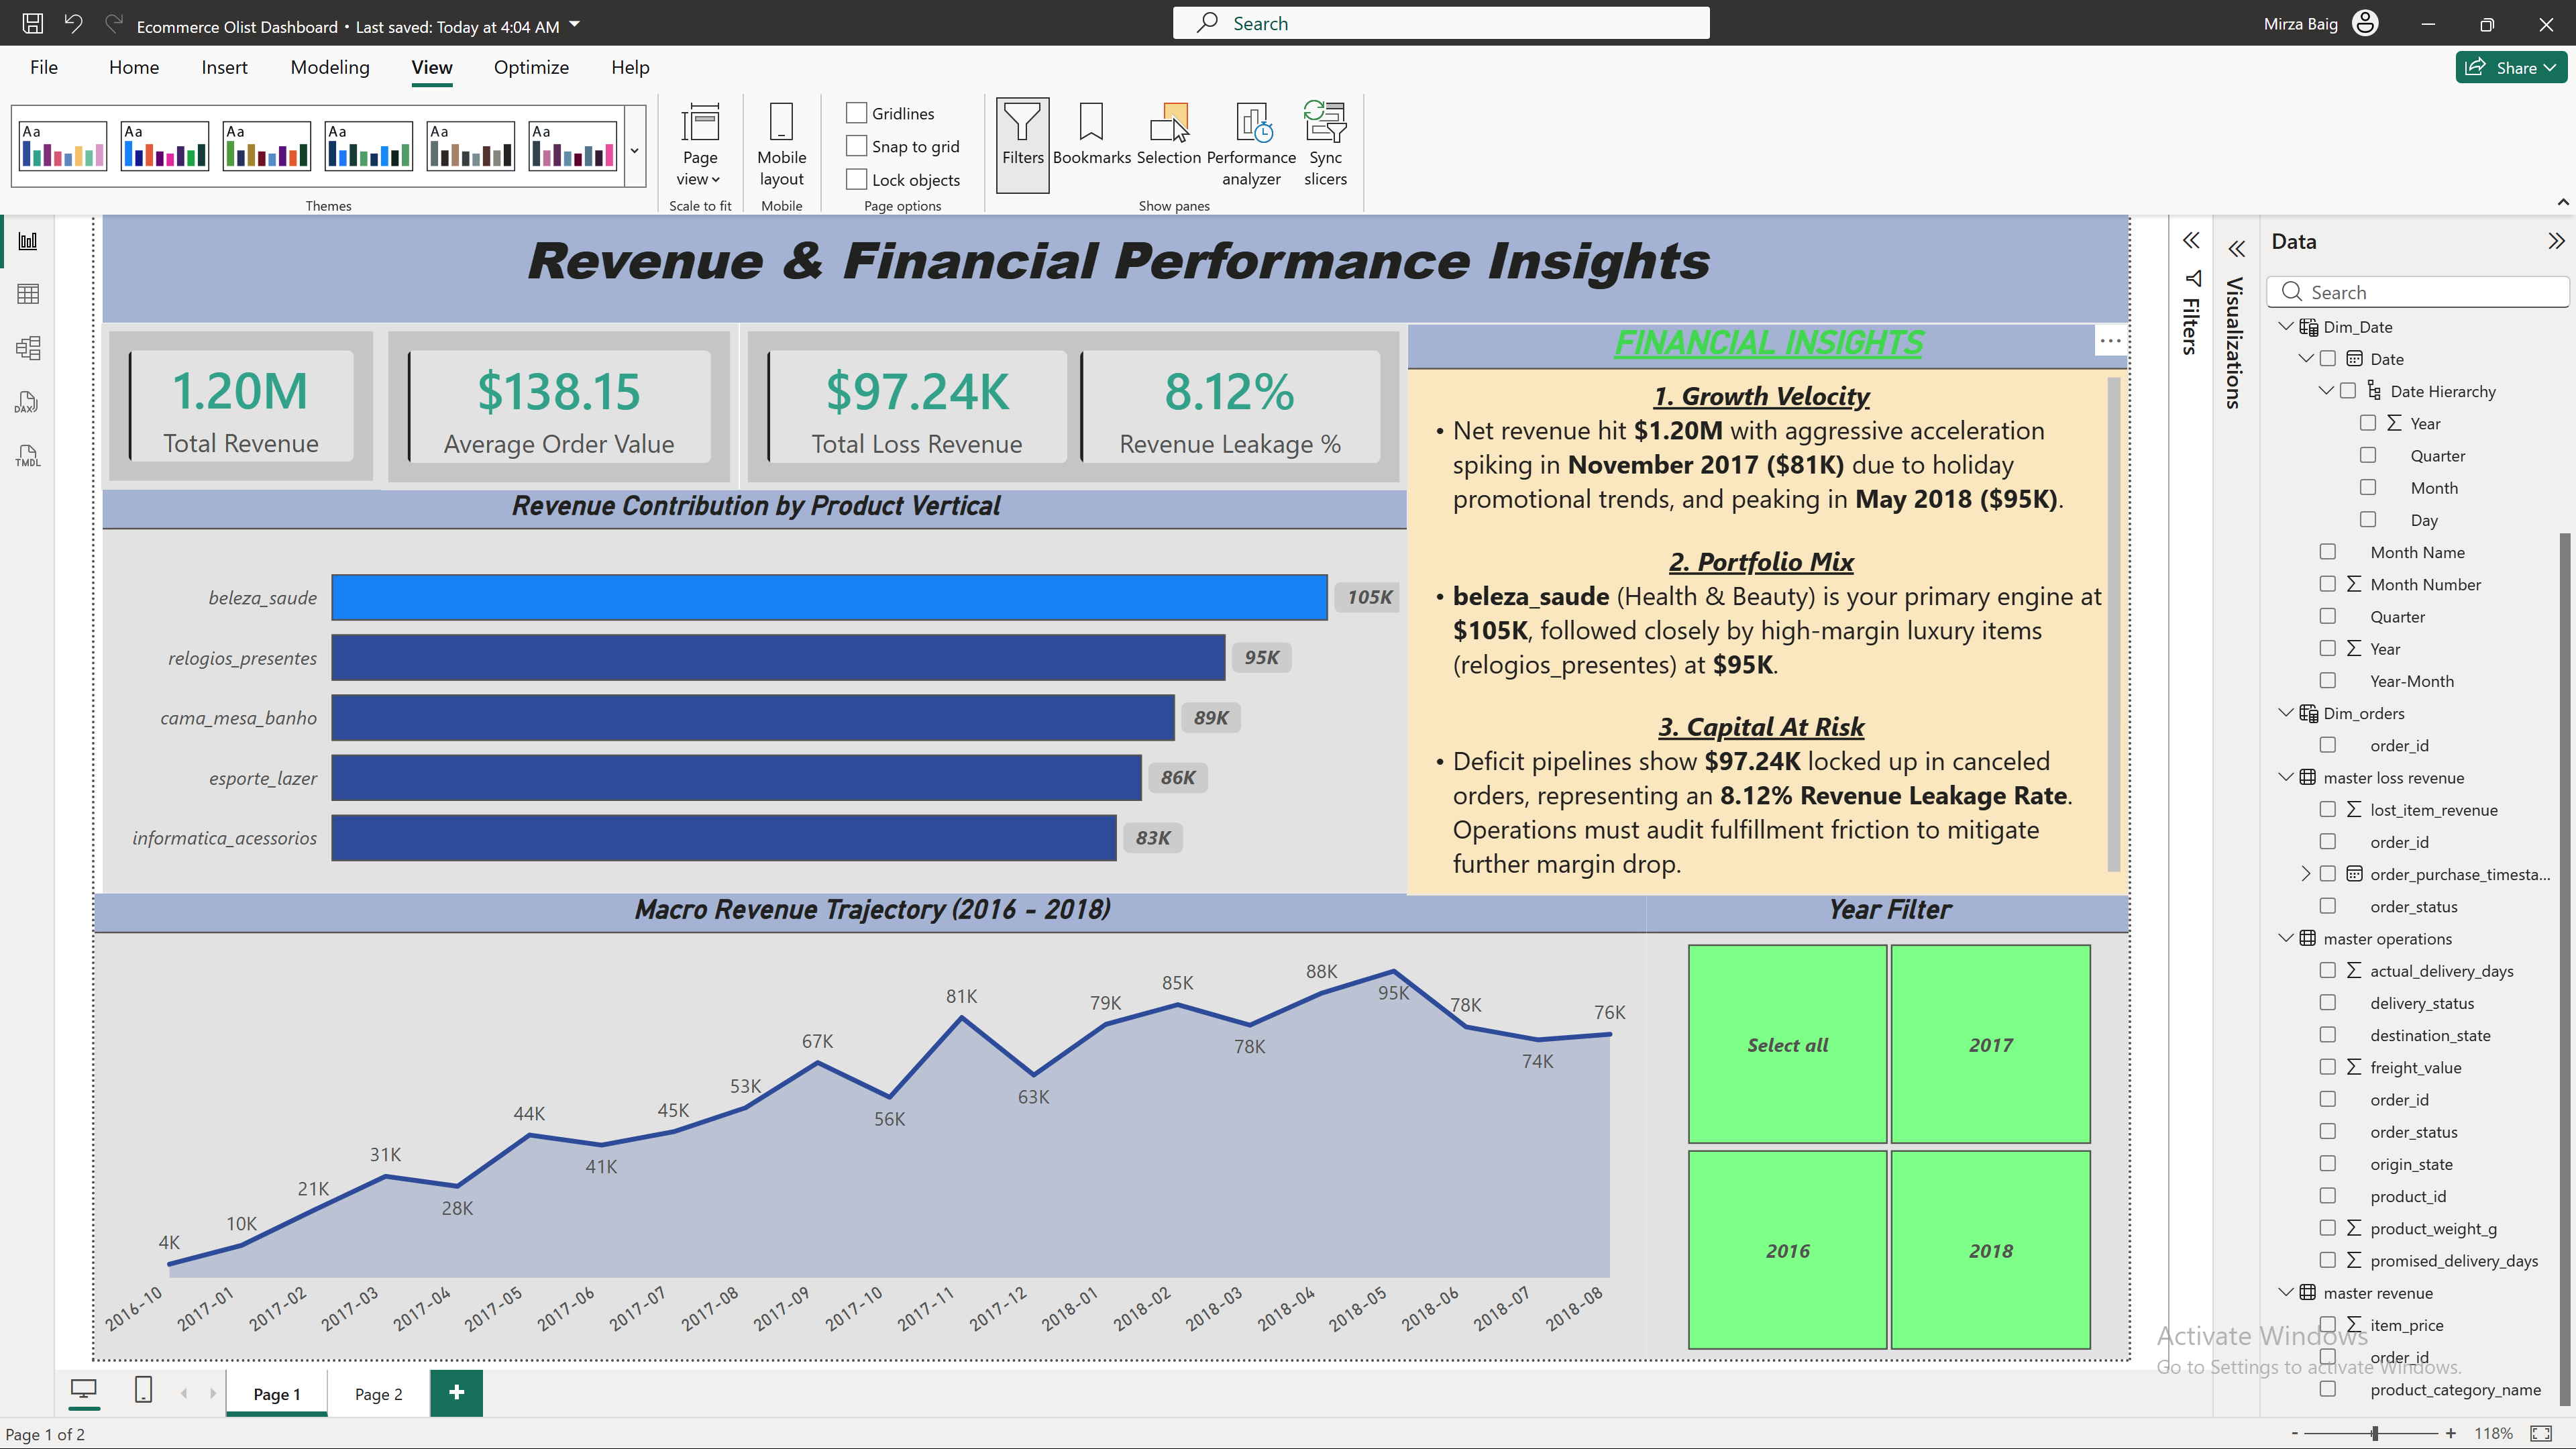

This screenshot's page, from the dashboard's own definition file:
{"tool":"powerbi","page":{"name":"Page 1","canvas":[1280,720],"ordinal":0},"visuals":[{"type":"cardVisual","fields":{"Data":["_key measures.Total Revenue"]},"box":[4.5,68.1,176.5,104.8],"z":0},{"type":"barChart","title":"Revenue Contribution by Product Vertical","fields":{"Y":["_key measures.Total Revenue"],"Category":["master revenue.product_category_name"]},"box":[4.9,173.1,820.9,253.9],"z":1000},{"type":"cardVisual","fields":{"Data":["_key measures.Average Order Value"]},"box":[179.9,68.1,225.7,105],"z":1001},{"type":"lineChart","title":"Macro Revenue Trajectory (2016 - 2018)","fields":{"Y":["_key measures.Total Revenue"],"Category":["Dim_Date.Year-Month"]},"box":[0,427,976.5,293.7],"z":1002},{"type":"textbox","box":[4.9,0,1275.1,68.1],"z":1004},{"type":"cardVisual","fields":{"Data":["_key measures.Total Loss Revenue","_key measures.Revenue Leakage %"]},"box":[405.6,68.1,420.2,105],"z":1005},{"type":"slicer","title":"Year Filter","fields":{"Values":["Dim_Date.Date.Variation.Date Hierarchy.Year"]},"box":[976.5,427,303.5,292.8],"z":1006},{"type":"textbox","title":"FINANCIAL INSIGHTS","box":[825.8,68.1,454.2,359.9],"z":1008}]}

Visuals, with their boxes on the page's 1280x720 design canvas (x1, y1, x2, y2). These are canvas units, not pixel positions in the 2576x1449 screenshot, which may show the page scaled, cropped or inside an application window:
cardVisual - _key measures.Total Revenue: (x1=4, y1=68, x2=181, y2=173)
"Revenue Contribution by Product Vertical" barChart: (x1=5, y1=173, x2=826, y2=427)
cardVisual - _key measures.Average Order Value: (x1=180, y1=68, x2=406, y2=173)
"Macro Revenue Trajectory (2016 - 2018)" lineChart: (x1=0, y1=427, x2=976, y2=721)
textbox: (x1=5, y1=0, x2=1280, y2=68)
cardVisual - _key measures.Total Loss Revenue x _key measures.Revenue Leakage %: (x1=406, y1=68, x2=826, y2=173)
"Year Filter" slicer: (x1=976, y1=427, x2=1280, y2=720)
"FINANCIAL INSIGHTS" textbox: (x1=826, y1=68, x2=1280, y2=428)
